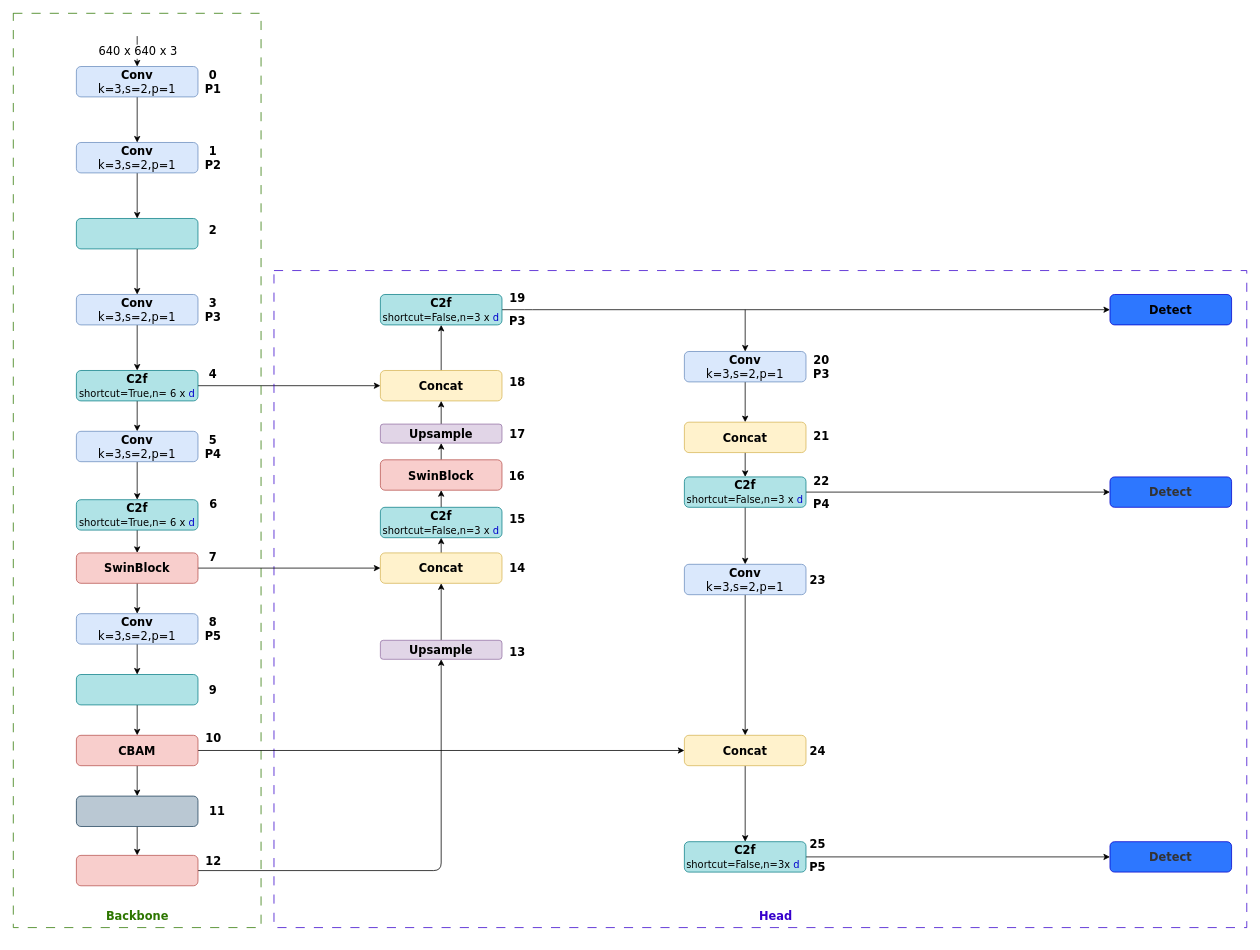
This 1260x950 diagram has some shape labels left out. The shapes that lost their labels are listed below. From the top down, each one's centre as x and y in pixels, then its label:
At (x=137, y=233): "C2f shortcut=True, n=3 x d".
At (x=137, y=689): "C2f shortcut=True,n= 3 x d".
At (x=137, y=810): "SPPF k = 5".
At (x=137, y=870): "SPPF k = 7".
